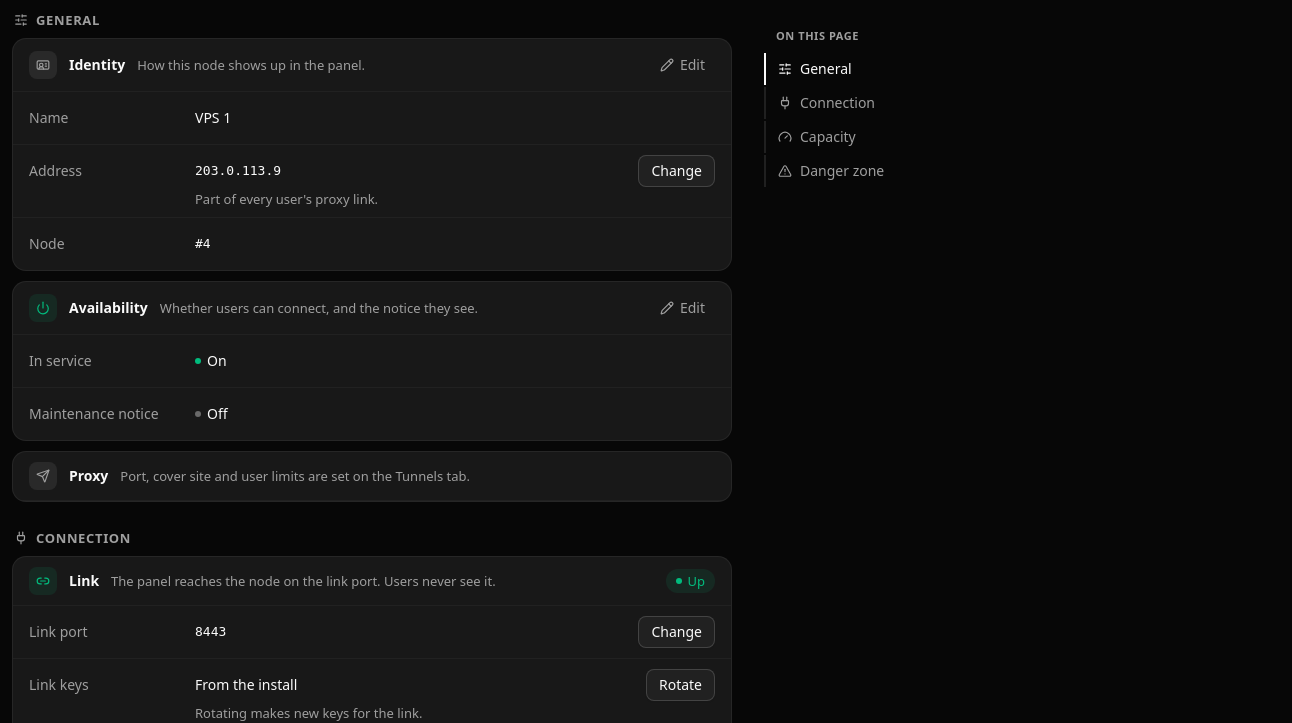
MtprotoNodeSettings › renames the node from its group and toasts it
The width and height of the screenshot is (1292, 723).
Step 1. Click the button with aria-label "Edit Identity" → (682, 65), box 650,49 -> 715,81
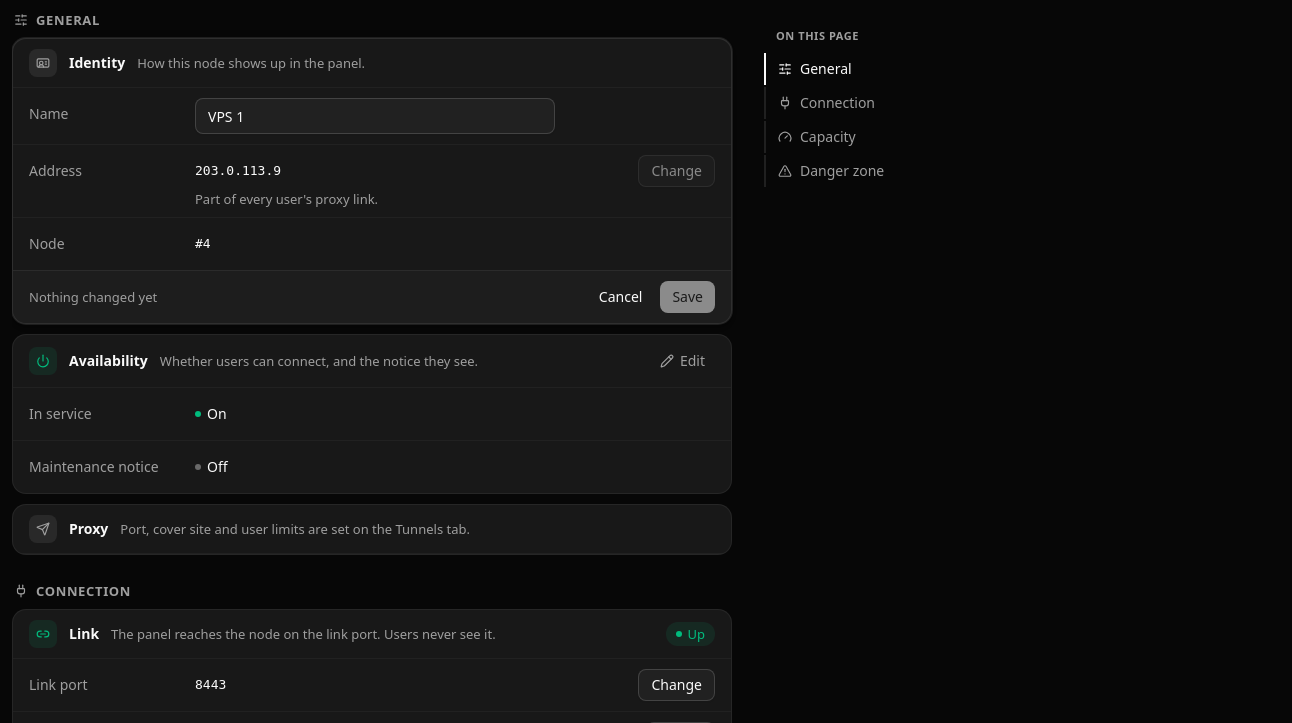
Step 2. Replace the text in the field labelled "Name" with "  VPS Tehran " → (375, 116), box 195,98 -> 555,134
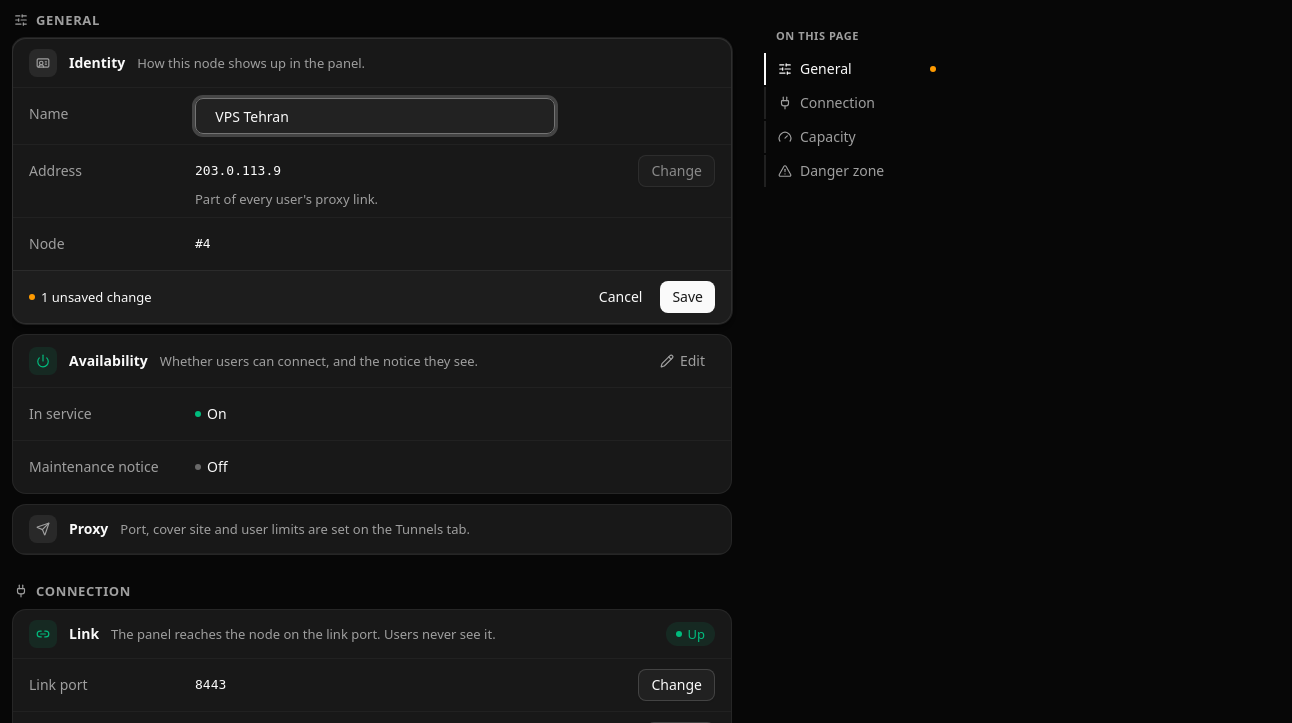
Expected: the footer named "Unsaved changes" shows "1 unsaved change", 13,270 -> 731,323
Step 3. Click the button "Save" → (688, 297), box 660,281 -> 715,313
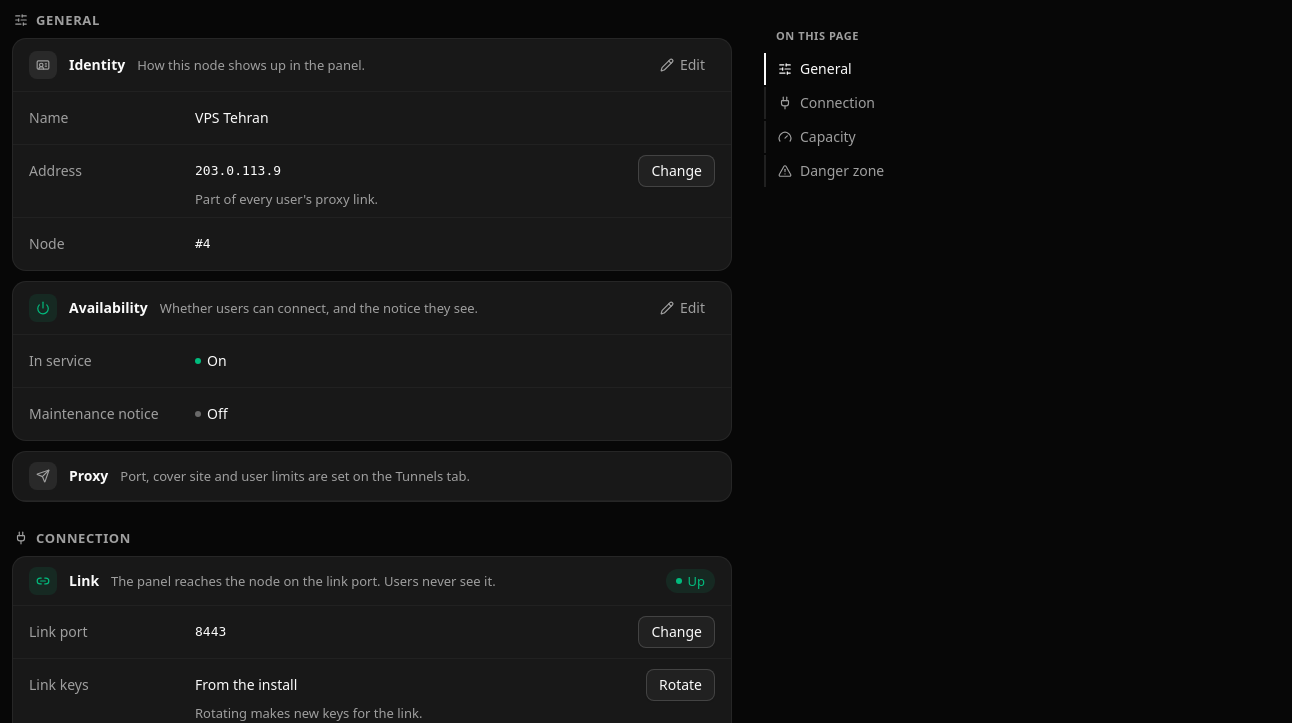
Expected: the text "VPS Tehran" is shown, 195,108 -> 269,128
Expected: the field is gone
